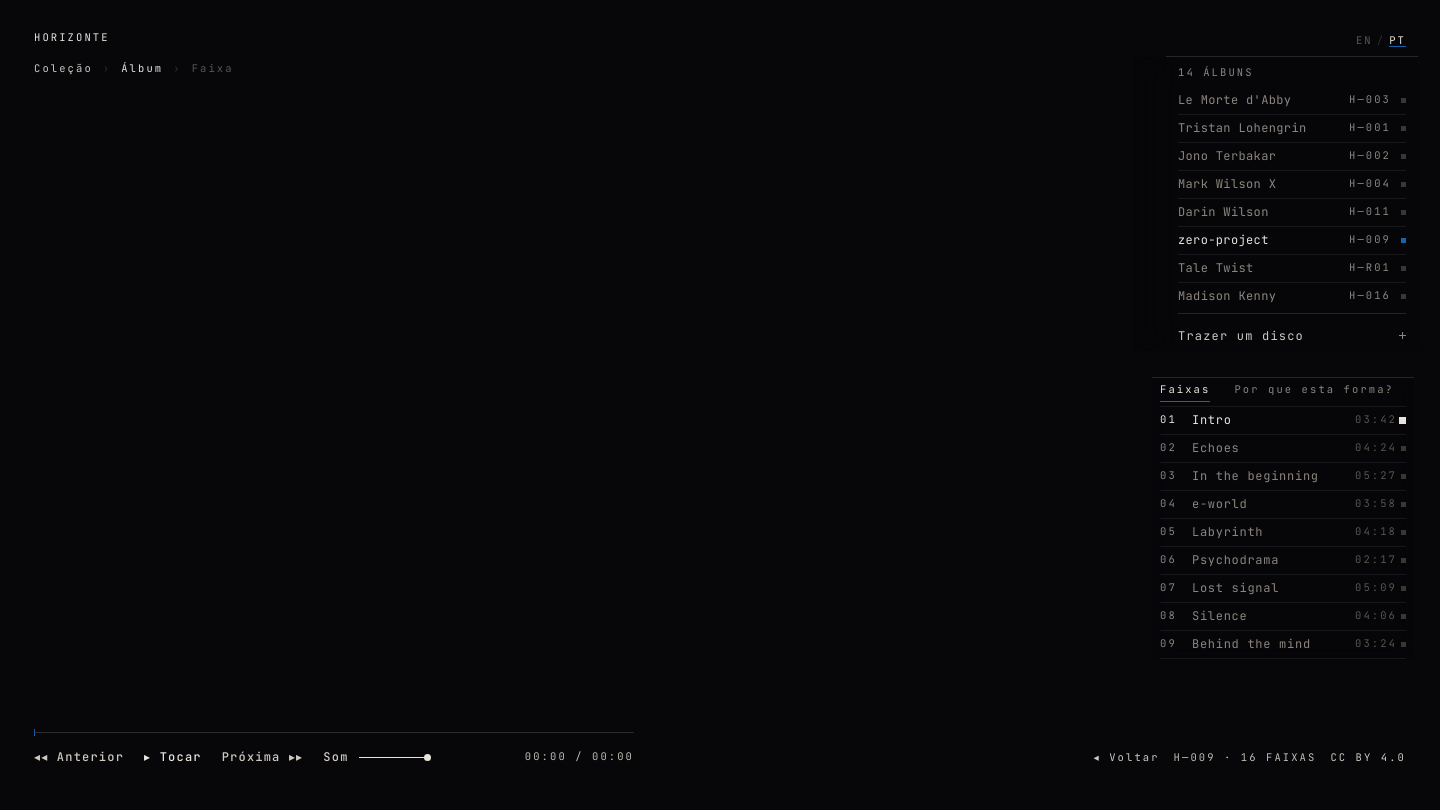
Test: switching by hand › going back to English restores English everywhere
Click the button with aria-label "English": (1364, 41) [1356,30,1373,52]
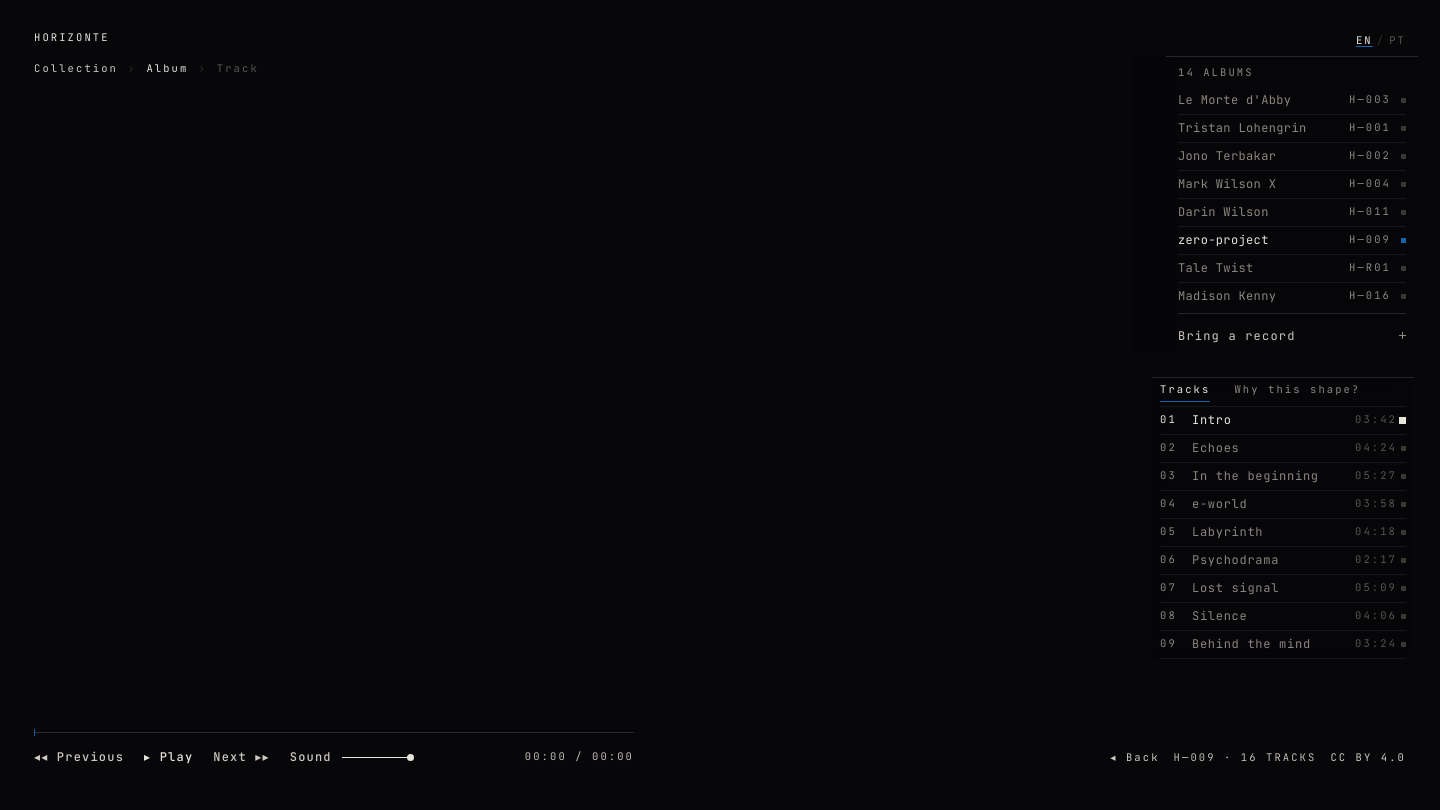
expect the tab "Why this shape?" is shown: met, box [1234,378,1360,402]
